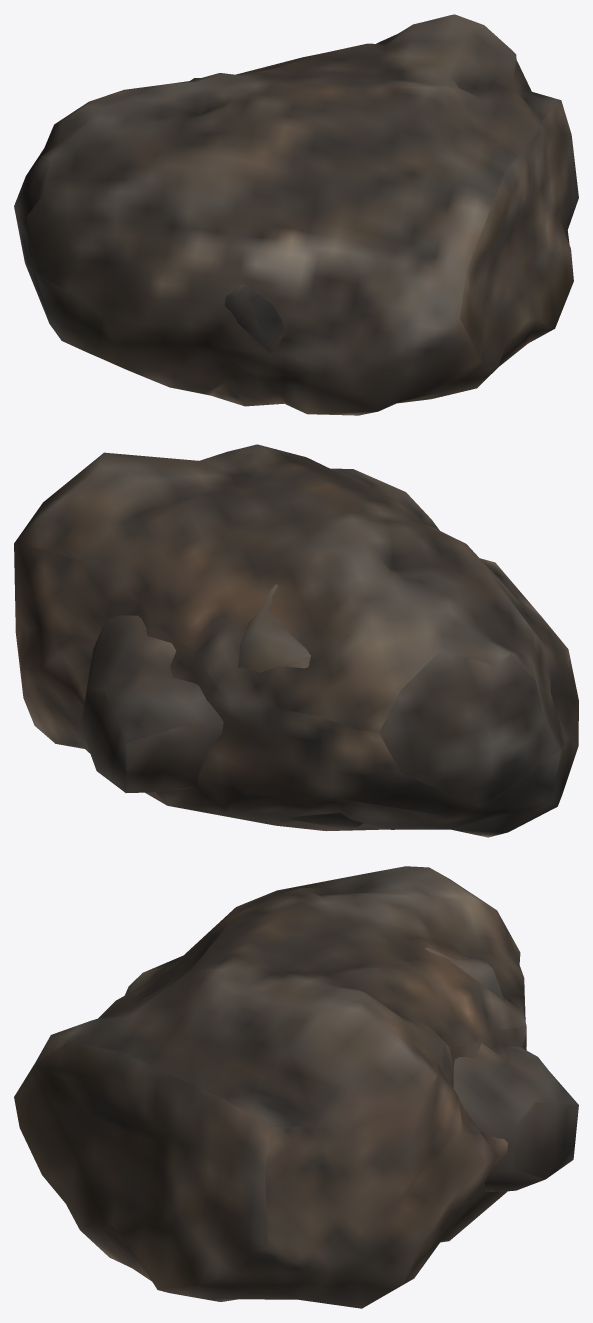
The model's file is Stones_1-16.fbx.
3 renders of one model, top to bottom at view 1: azimuth 30°, elevation 25°; view 2: azimuth 150°, elevation 25°; view 3: azimuth 270°, elevation 25°, orthographic. The views are drawn at different scales.
Parts seen in each view (by area): view 1: Stone_01, Stone_04; view 2: Stone_01, Stone_04, Stone_03; view 3: Stone_01, Stone_04, Stone_03.
Part boxes in pixels (box(x1,y1,x2,y2)): Stone_01: box(14, 14, 578, 415); Stone_04: box(224, 285, 285, 352); Stone_01: box(14, 444, 578, 837); Stone_04: box(80, 615, 223, 792); Stone_03: box(238, 584, 363, 829); Stone_01: box(14, 866, 526, 1308); Stone_04: box(453, 1043, 578, 1191); Stone_03: box(425, 947, 504, 1001).
Size of what is drawn, in the model's own units: 120 by 66.68 by 107.
